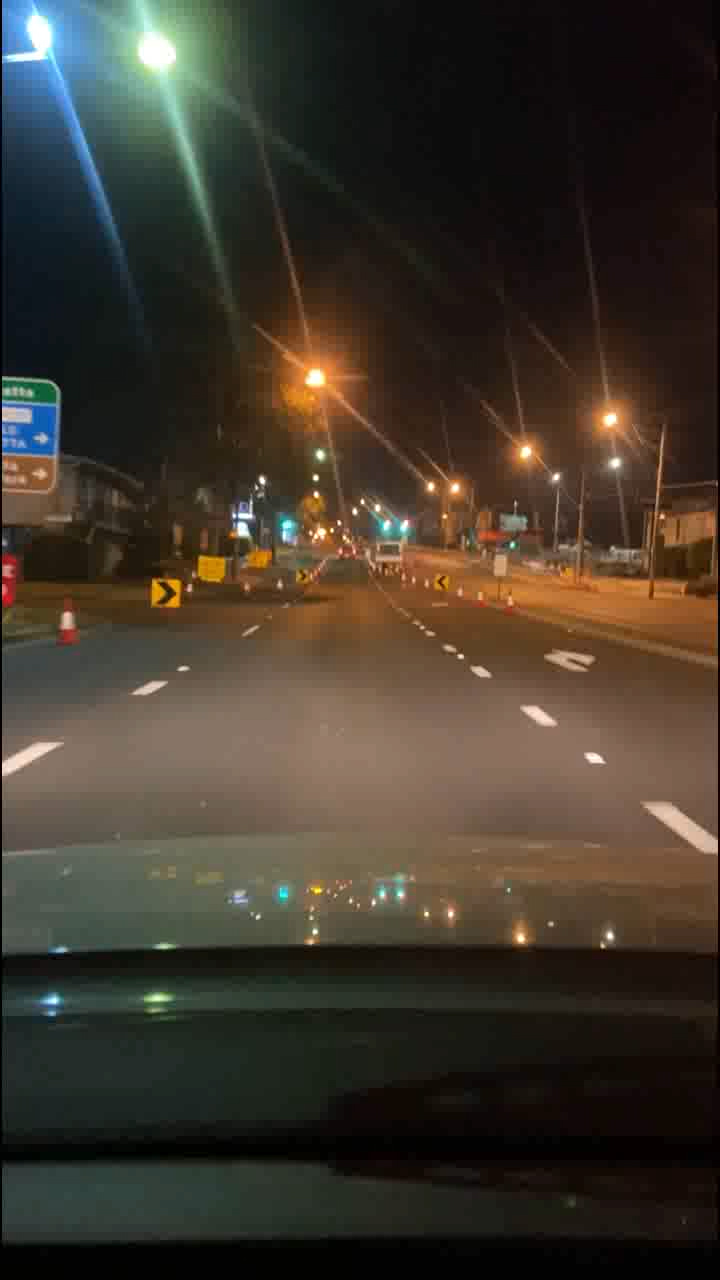road cone: (54, 598, 79, 640)
road works sign board: (150, 577, 183, 613), (197, 556, 225, 583), (431, 573, 447, 596), (291, 569, 312, 583)
truck: (372, 527, 410, 569)
